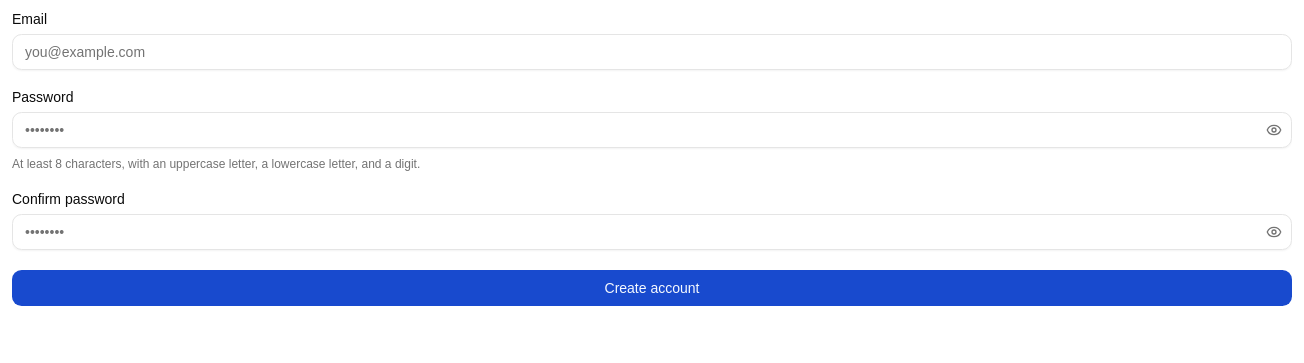
Test case: RegisterForm › shows a conflict error when the email is already registered
The width and height of the screenshot is (1304, 363).
In the field labelled "Email": (652, 52) [12, 34, 1292, 70], type "dup@example.com"
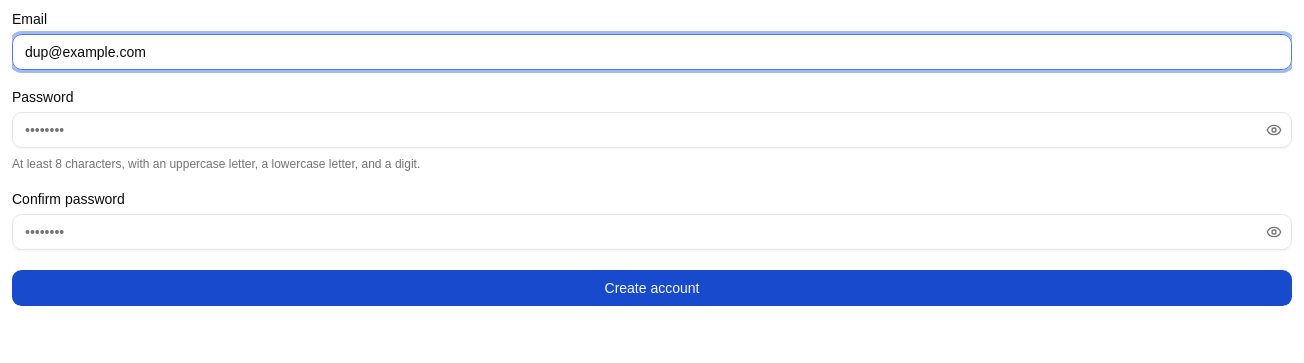
In the password field labelled "Password": (652, 130) [12, 112, 1292, 148], type "Passw0rd123"
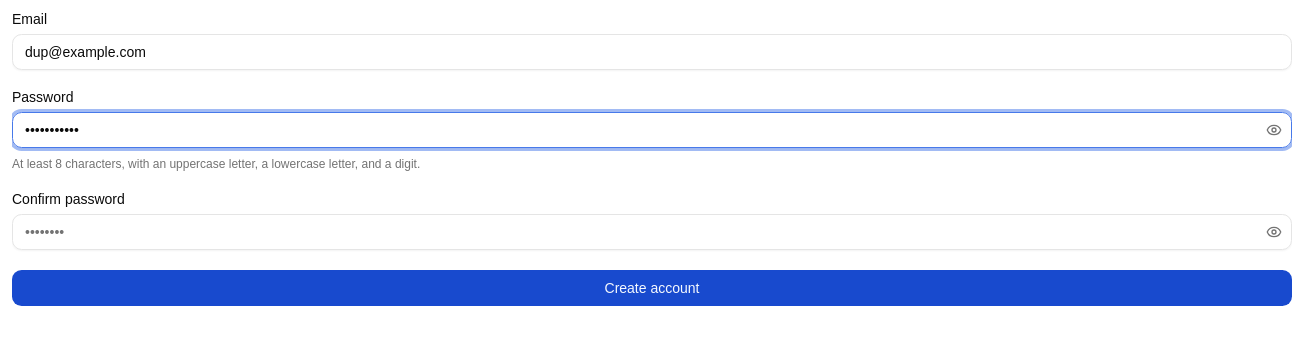
In the password field labelled "Confirm password": (652, 232) [12, 214, 1292, 250], type "Passw0rd123"
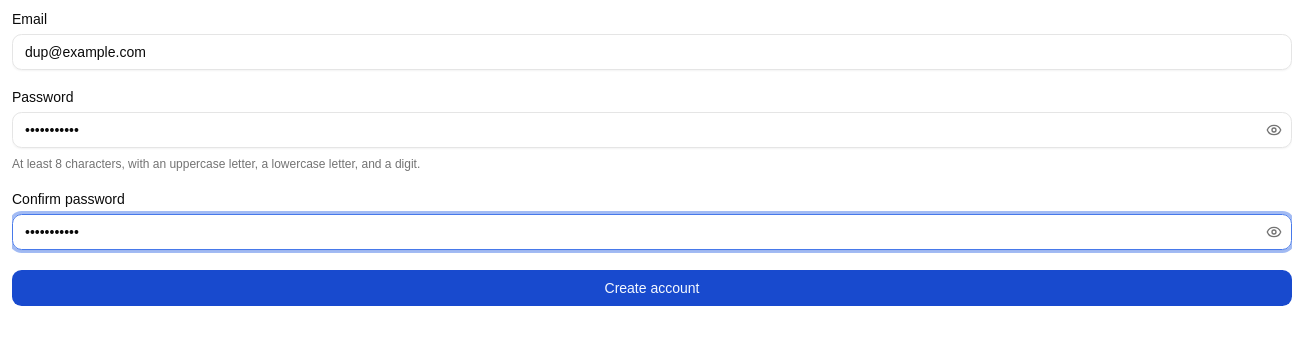
Click the button "Create account": (652, 288) [12, 270, 1292, 306]
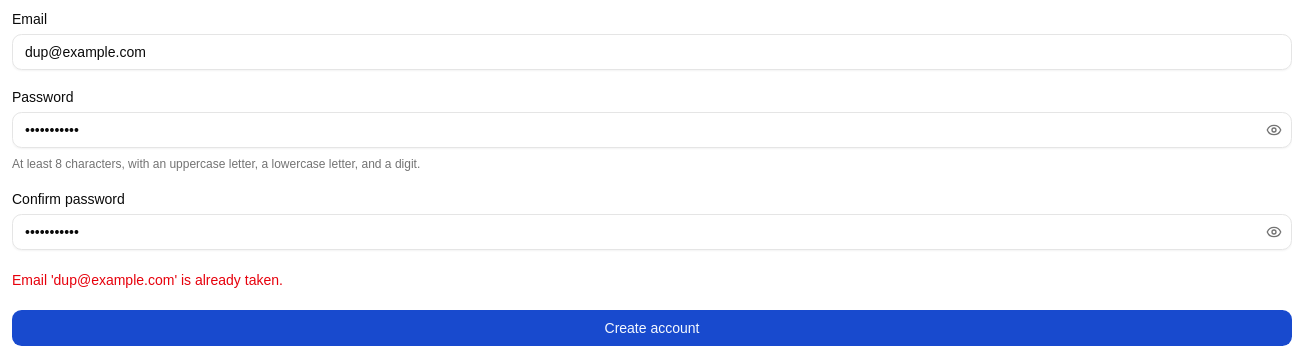
Check: the text "Email 'dup@example.com' is already taken." is shown, box [12, 272, 283, 288]
